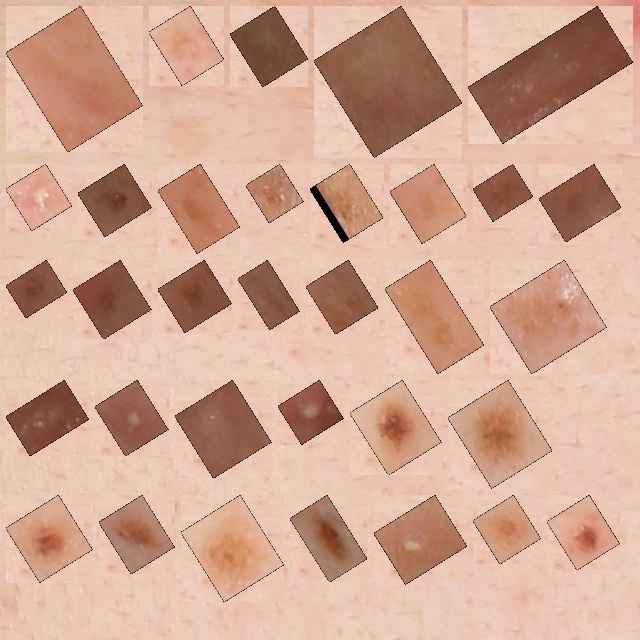hypertrophic_scar: (479, 17, 622, 132), (325, 17, 451, 146), (186, 391, 260, 467), (241, 17, 297, 76), (17, 391, 78, 445)
melasma: (17, 17, 132, 141), (501, 271, 595, 363), (396, 271, 473, 362), (169, 175, 229, 242), (550, 175, 610, 231), (84, 271, 140, 328), (401, 175, 455, 232), (160, 17, 213, 74), (321, 175, 372, 231), (169, 271, 221, 321), (317, 271, 367, 323), (249, 271, 288, 318), (17, 271, 56, 307), (484, 175, 522, 210), (257, 175, 292, 211)
nevus: (459, 391, 541, 477), (192, 506, 273, 591), (361, 391, 430, 464), (17, 506, 81, 571), (301, 506, 356, 571), (110, 506, 164, 563), (558, 506, 609, 559), (484, 506, 530, 553)
pustule: (385, 506, 456, 573), (106, 391, 157, 445), (17, 175, 61, 219), (289, 391, 332, 433)
